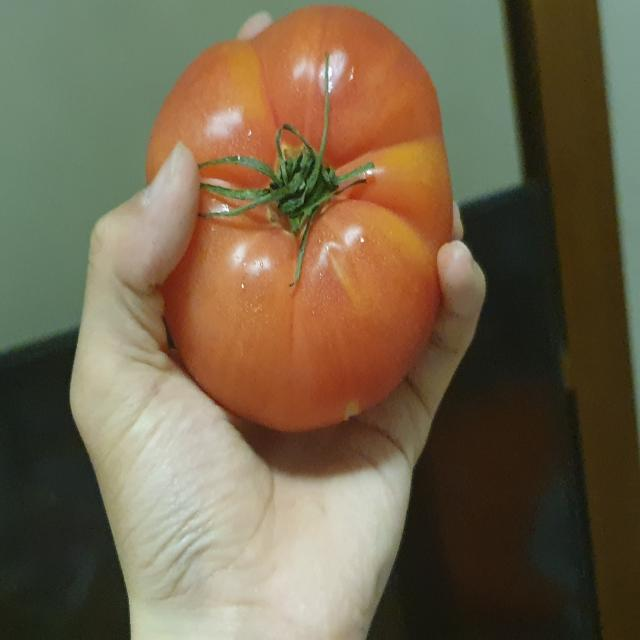tomato: (146, 3, 454, 433)
